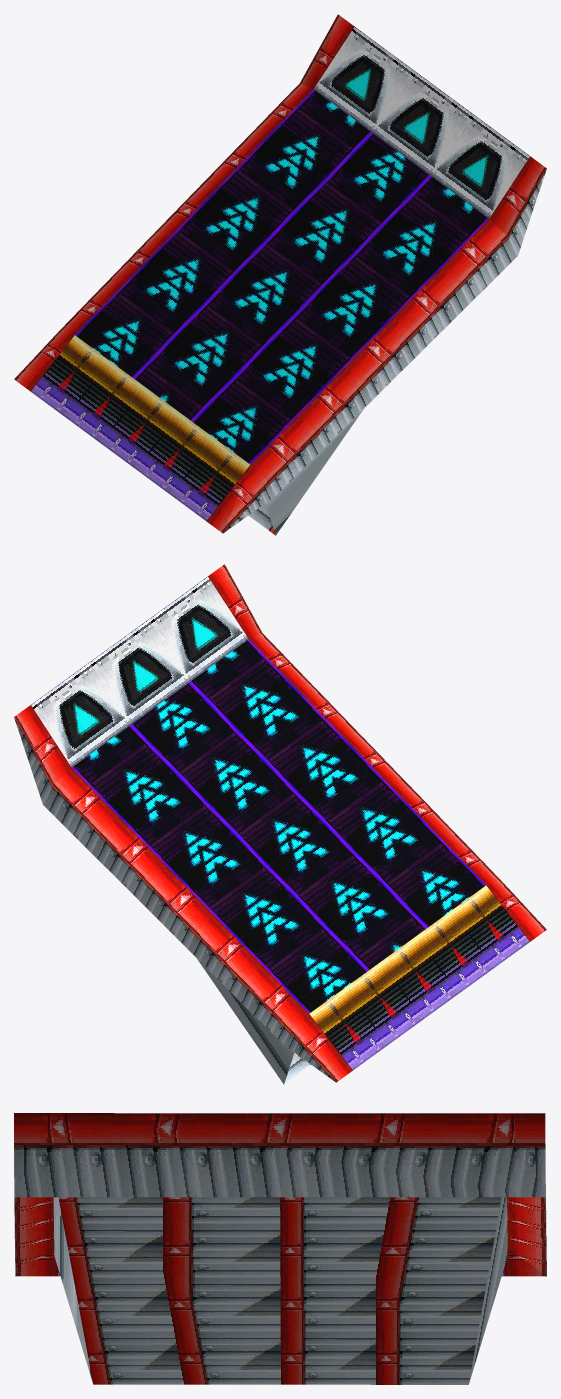
The model's file is Ramp.obj.
3 renders of one model, top to bottom at view 1: azimuth 30°, elevation 25°; view 2: azimuth 150°, elevation 25°; view 3: azimuth 270°, elevation 25°, orthographic. The views are drawn at different scales.
Visible parts, largest first — view 1: DrawCall_0113, DrawCall_0112, DrawCall_0110, DrawCall_0111; view 2: DrawCall_0113, DrawCall_0112, DrawCall_0110, DrawCall_0111; view 3: DrawCall_0111, DrawCall_0110.
Boxes of the visible parts, x1=… form: DrawCall_0113: x1=75, y1=89, x2=488, y2=464; DrawCall_0112: x1=31, y1=27, x2=529, y2=520; DrawCall_0110: x1=14, y1=14, x2=546, y2=533; DrawCall_0111: x1=248, y1=409, x2=363, y2=535; DrawCall_0113: x1=72, y1=639, x2=485, y2=1013; DrawCall_0112: x1=31, y1=576, x2=529, y2=1070; DrawCall_0110: x1=14, y1=564, x2=546, y2=1082; DrawCall_0111: x1=197, y1=959, x2=310, y2=1084; DrawCall_0111: x1=53, y1=1197, x2=507, y2=1384; DrawCall_0110: x1=14, y1=1113, x2=546, y2=1276.
Bounding box in the file's own units: 44.58 × 43.61 × 50.15.
3 materials, 3 textured.
